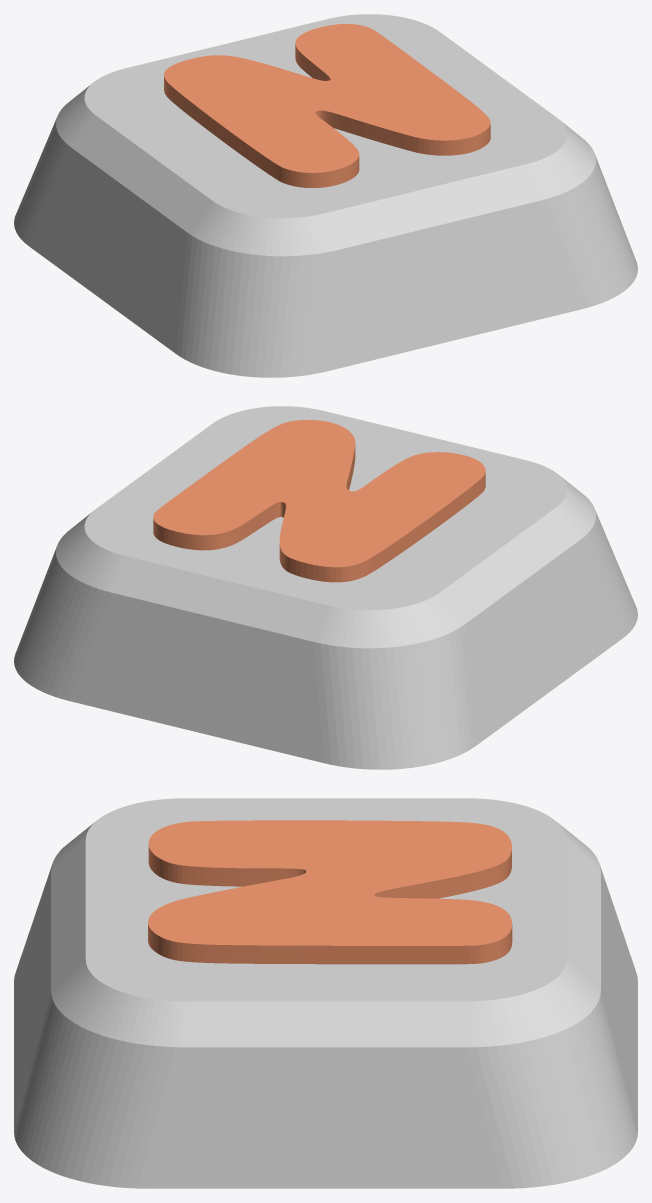
The model's file is cap-N.glb.
The picture shows the model from 3 angles, top to bottom: view 1: azimuth 30°, elevation 25°; view 2: azimuth 150°, elevation 25°; view 3: azimuth 270°, elevation 25°; orthographic projection. The views are drawn at different scales.
Visible parts, largest first — view 1: cap_0, glyph_1; view 2: cap_0, glyph_1; view 3: cap_0, glyph_1.
Part boxes in pixels (x1,y1,x2,y2): cap_0: [14, 14, 637, 377]; glyph_1: [164, 24, 490, 187]; cap_0: [14, 406, 637, 769]; glyph_1: [153, 420, 485, 582]; cap_0: [14, 798, 637, 1188]; glyph_1: [148, 820, 512, 964].
Size of the model in its own units: 18 by 5.59 by 18.
